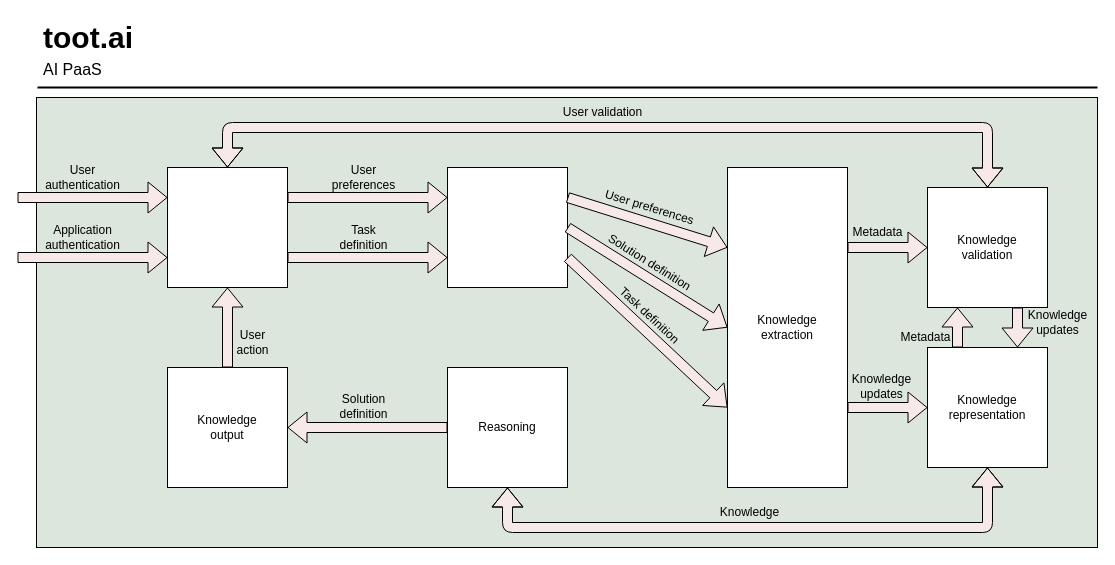
The diagram is 1115 pixels wide and 565 high, and some of its shapes have lost their labels. The centre of each missing label's shape, as x and y in pixels:
Data ingestion: the point at 507,227
User spacing: the point at 227,227
